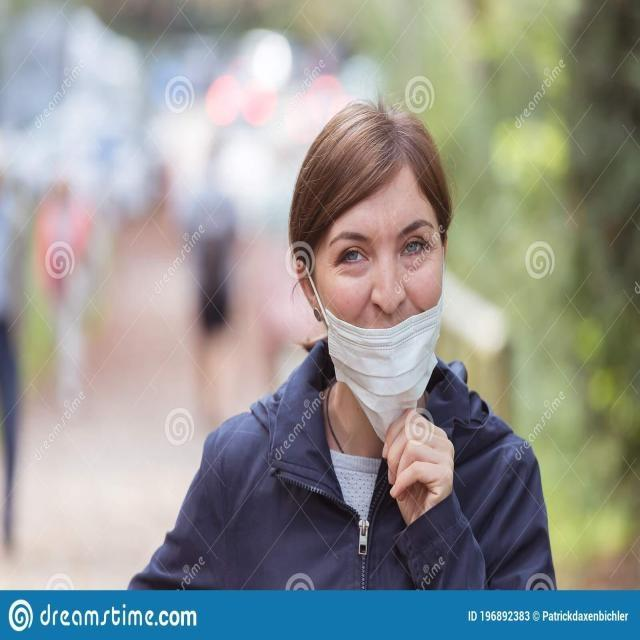hairnet: (297, 182, 456, 454)
no_gloves: (286, 95, 465, 271)
